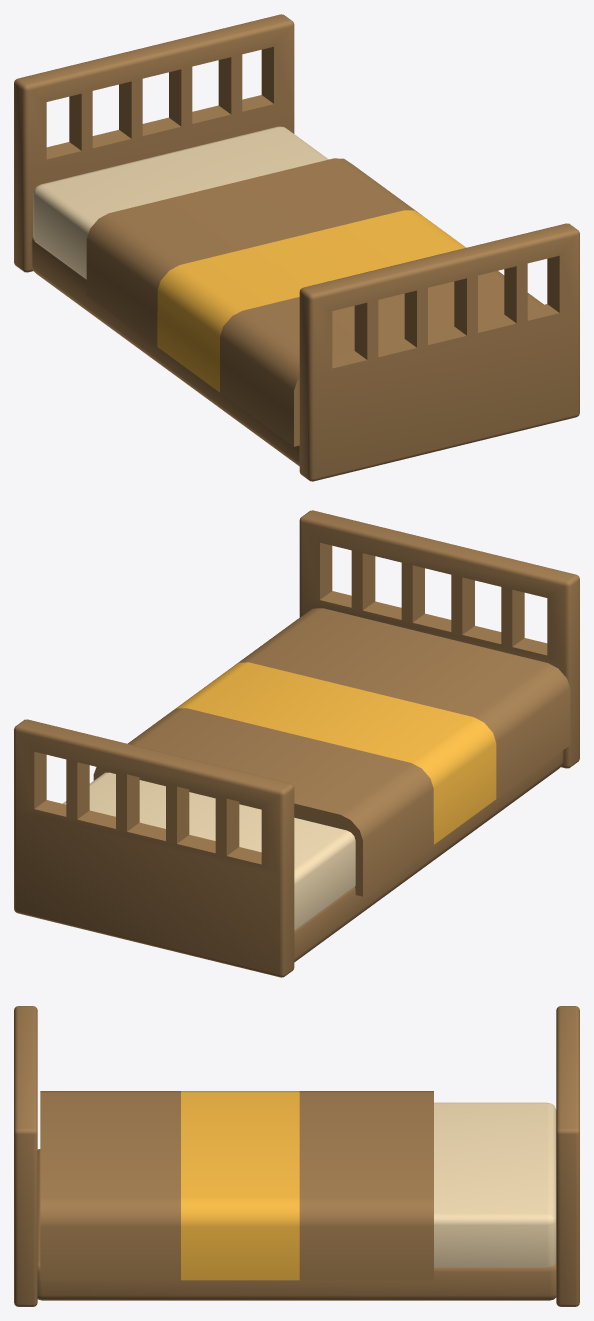
File: Single Bed_1V.fbx
3 views of the same model, one above another, from view 1: azimuth 30°, elevation 25°; view 2: azimuth 150°, elevation 25°; view 3: azimuth 270°, elevation 25° (orthographic). The views are drawn at different scales.
Visible parts, largest first — view 1: Single Bed_1V; view 2: Single Bed_1V; view 3: Single Bed_1V.
Boxes of the visible parts, box(x1,y1,x2,y2) form: Single Bed_1V: box(14, 14, 579, 481); Single Bed_1V: box(14, 510, 579, 977); Single Bed_1V: box(14, 1006, 579, 1306).
Size of the model in its own units: 0.8648 by 0.5659 by 1.63.
